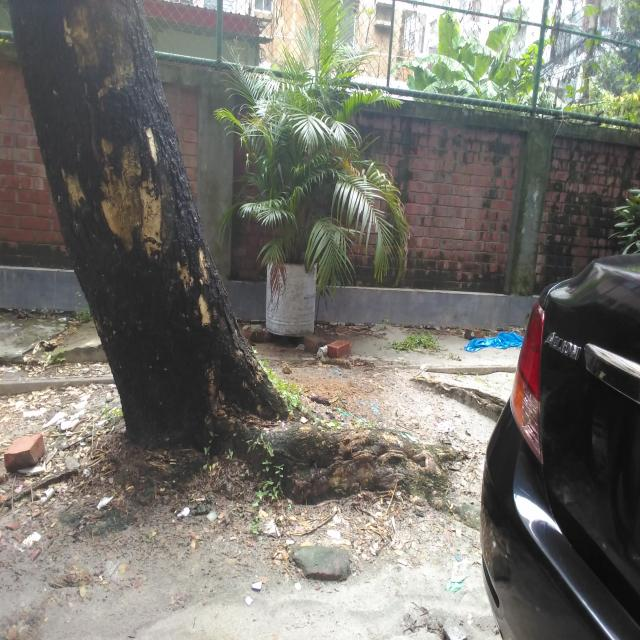artificial_container: (263, 252, 318, 342)
